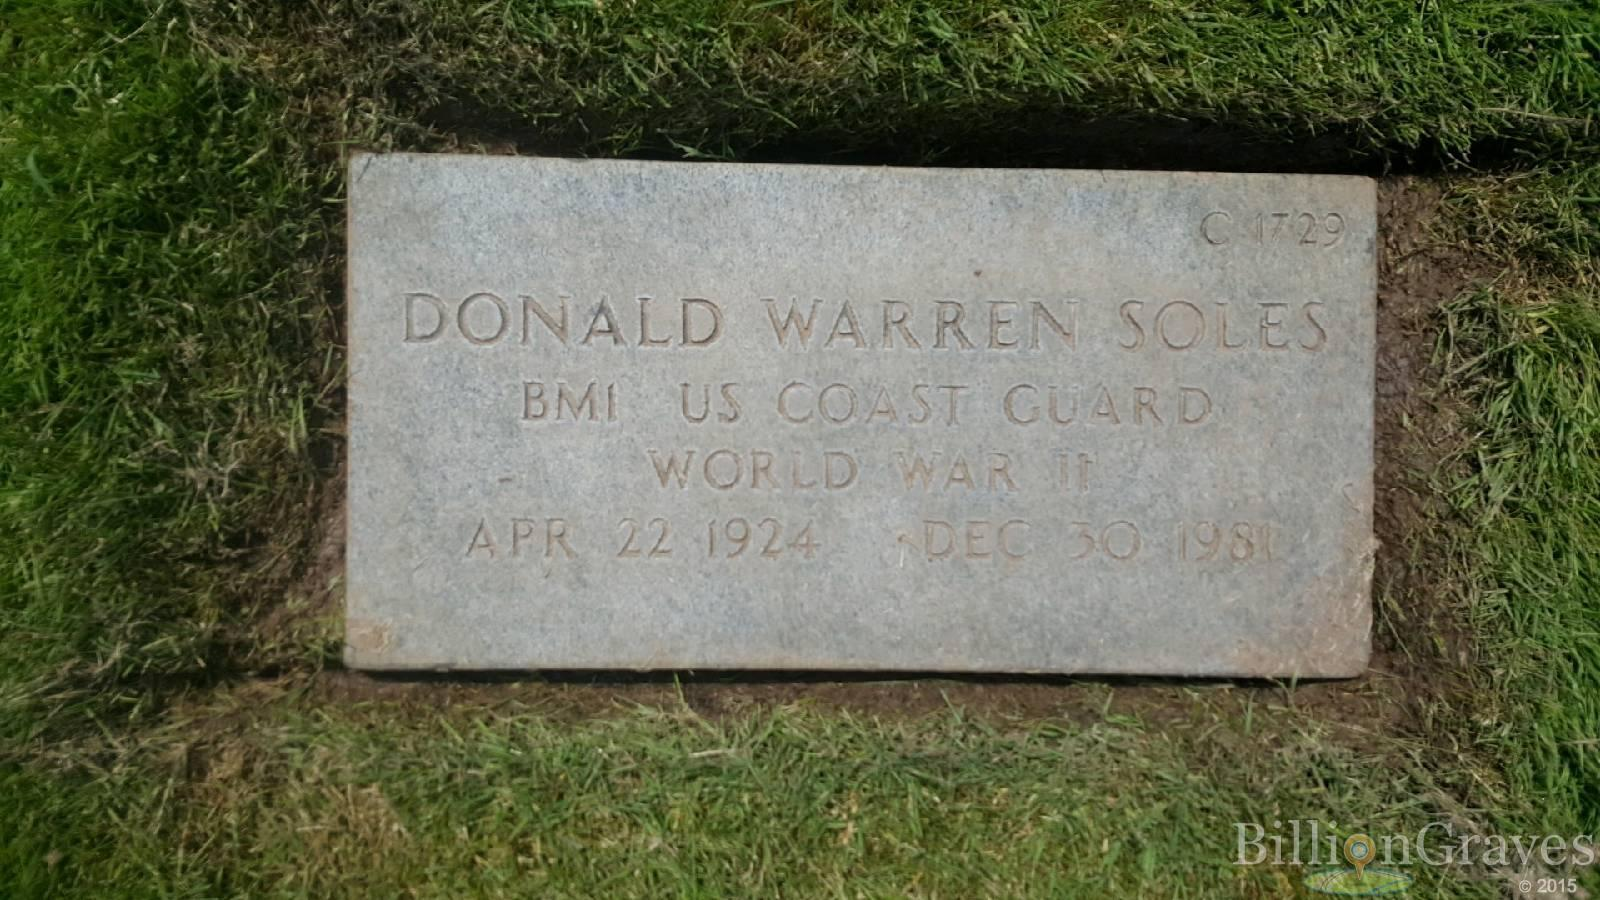flat: (313, 104, 1407, 698)
